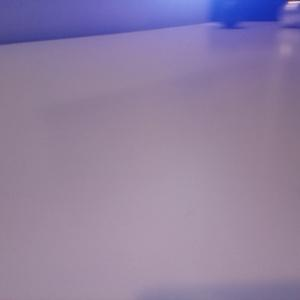alive_ball: (279, 1, 300, 27)
dead_ball: (220, 1, 242, 26)
